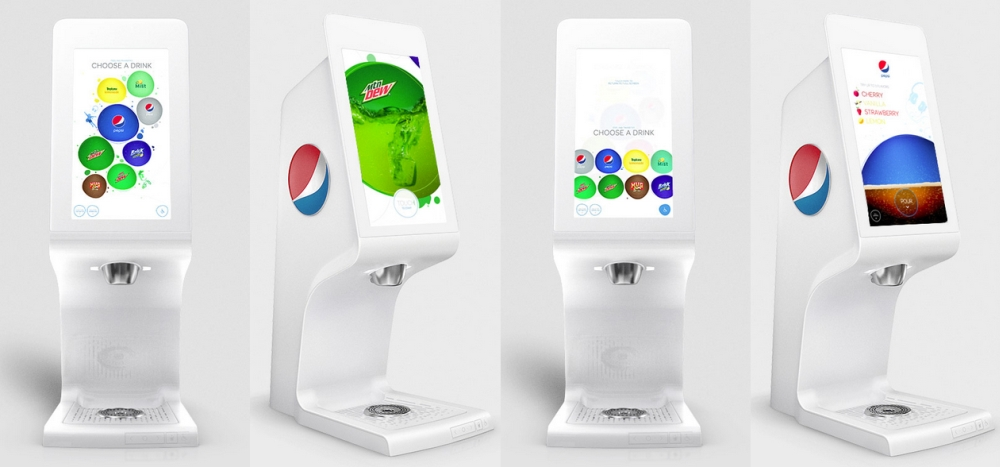pepsi: (790, 141, 836, 213), (790, 147, 836, 213), (288, 144, 329, 213), (111, 115, 125, 127), (879, 60, 893, 71), (604, 155, 616, 166), (577, 155, 590, 163), (145, 102, 155, 110)
